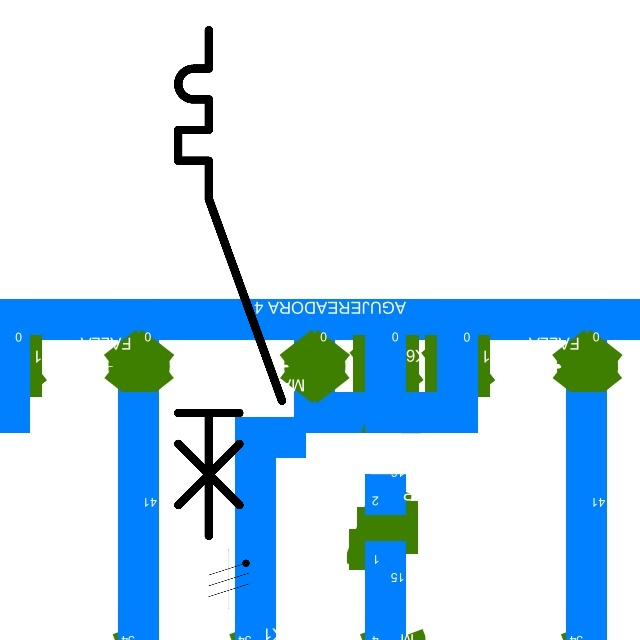interruptor_termomagnetico: (165, 17, 295, 549)
